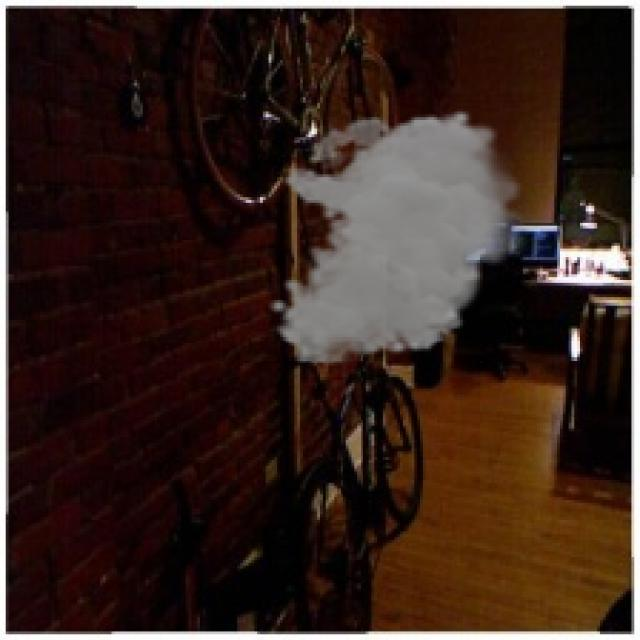Smoke: (268, 108, 534, 366)
